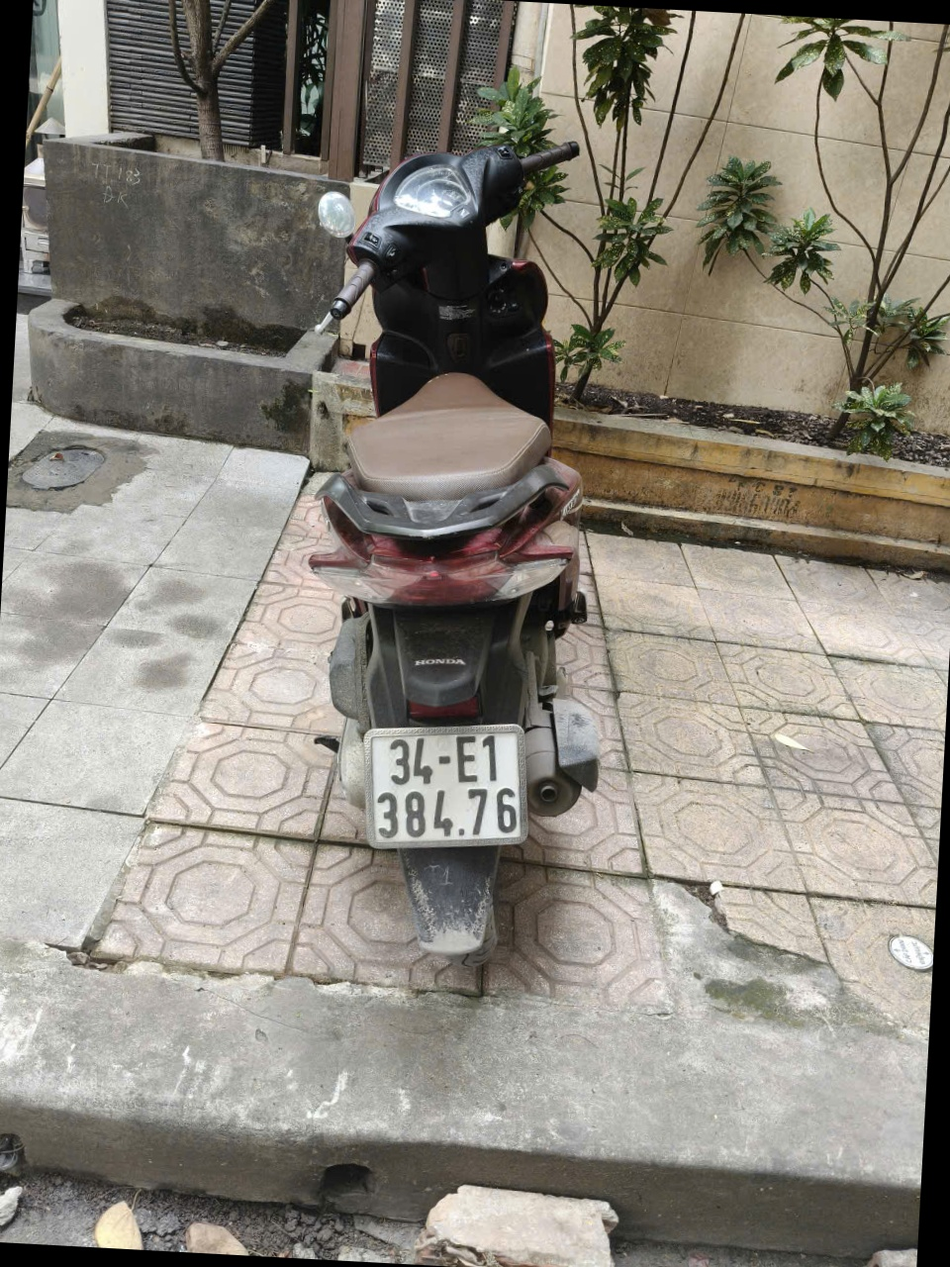plate: (250, 572, 388, 616)
